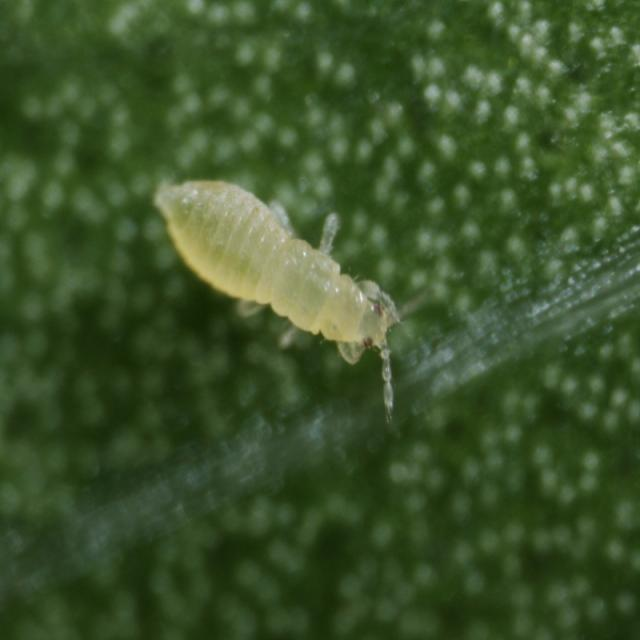Thrip-Larva-: (130, 157, 420, 382)
